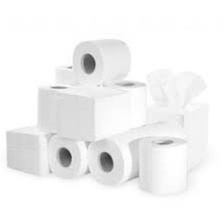tissue: (140, 61, 213, 176), (82, 113, 184, 192), (134, 132, 193, 200), (68, 34, 135, 87), (0, 121, 59, 180), (32, 80, 84, 137), (105, 73, 151, 128), (43, 131, 90, 182), (51, 59, 80, 87)
